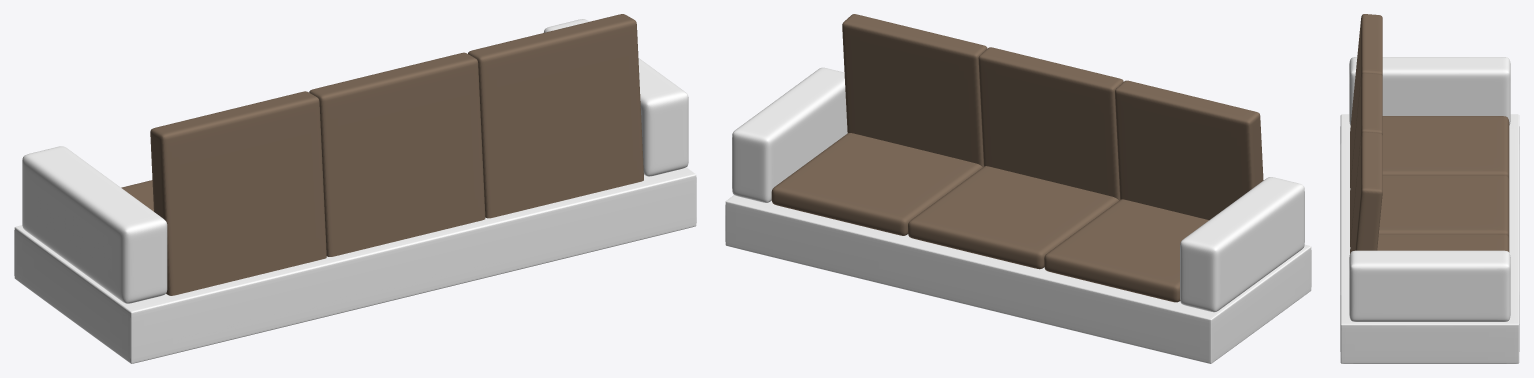
The picture shows the model from 3 angles, left to right: view 1: azimuth 30°, elevation 25°; view 2: azimuth 150°, elevation 25°; view 3: azimuth 270°, elevation 25°; orthographic projection. The views are drawn at different scales.
Visible parts, largest first — view 1: MainCouch_Base, MainCouch_BackCushion_1, MainCouch_BackCushion_3, MainCouch_BackCushion_2, MainCouch_Armrest_Left, MainCouch_Armrest_Right; view 2: MainCouch_Base, MainCouch_BackCushion_2, MainCouch_BackCushion_3, MainCouch_BackCushion_1, MainCouch_SeatCushion_3, MainCouch_SeatCushion_2, MainCouch_Armrest_Left, MainCouch_SeatCushion_1, MainCouch_Armrest_Right; view 3: MainCouch_Base, MainCouch_Armrest_Right, MainCouch_Armrest_Left, MainCouch_SeatCushion_2, MainCouch_SeatCushion_1, MainCouch_BackCushion_3, MainCouch_SeatCushion_3, MainCouch_BackCushion_2, MainCouch_BackCushion_1.
Part boxes in pixels (left/top/right/bottom): MainCouch_Base: left=14, top=167, right=696, bottom=363; MainCouch_BackCushion_1: left=150, top=91, right=326, bottom=295; MainCouch_BackCushion_3: left=468, top=14, right=643, bottom=218; MainCouch_BackCushion_2: left=309, top=52, right=485, bottom=256; MainCouch_Armrest_Left: left=22, top=146, right=167, bottom=303; MainCouch_Armrest_Right: left=543, top=19, right=688, bottom=176; MainCouch_Base: left=725, top=195, right=1311, bottom=363; MainCouch_BackCushion_2: left=978, top=47, right=1123, bottom=200; MainCouch_BackCushion_3: left=842, top=14, right=987, bottom=166; MainCouch_BackCushion_1: left=1115, top=80, right=1263, bottom=220; MainCouch_SeatCushion_3: left=771, top=133, right=982, bottom=235; MainCouch_SeatCushion_2: left=908, top=166, right=1118, bottom=269; MainCouch_Armrest_Left: left=1180, top=177, right=1304, bottom=312; MainCouch_SeatCushion_1: left=1044, top=199, right=1208, bottom=302; MainCouch_Armrest_Right: left=732, top=67, right=847, bottom=202; MainCouch_Base: left=1340, top=114, right=1519, bottom=363; MainCouch_Armrest_Right: left=1349, top=250, right=1510, bottom=321; MainCouch_Armrest_Left: left=1349, top=57, right=1510, bottom=125; MainCouch_SeatCushion_2: left=1379, top=175, right=1509, bottom=239; MainCouch_SeatCushion_1: left=1382, top=116, right=1509, bottom=180; MainCouch_BackCushion_3: left=1350, top=132, right=1382, bottom=253; MainCouch_SeatCushion_3: left=1377, top=234, right=1509, bottom=252; MainCouch_BackCushion_2: left=1350, top=73, right=1382, bottom=246; MainCouch_BackCushion_1: left=1350, top=14, right=1382, bottom=187.
Bounding box in the file's own units: 5 × 1.75 × 1.8.
